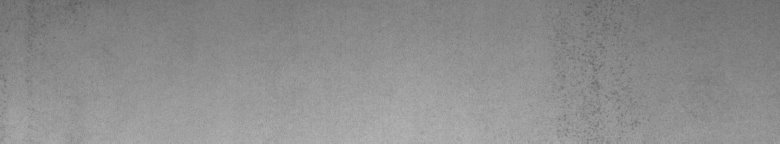ib: (558, 4, 644, 127)
